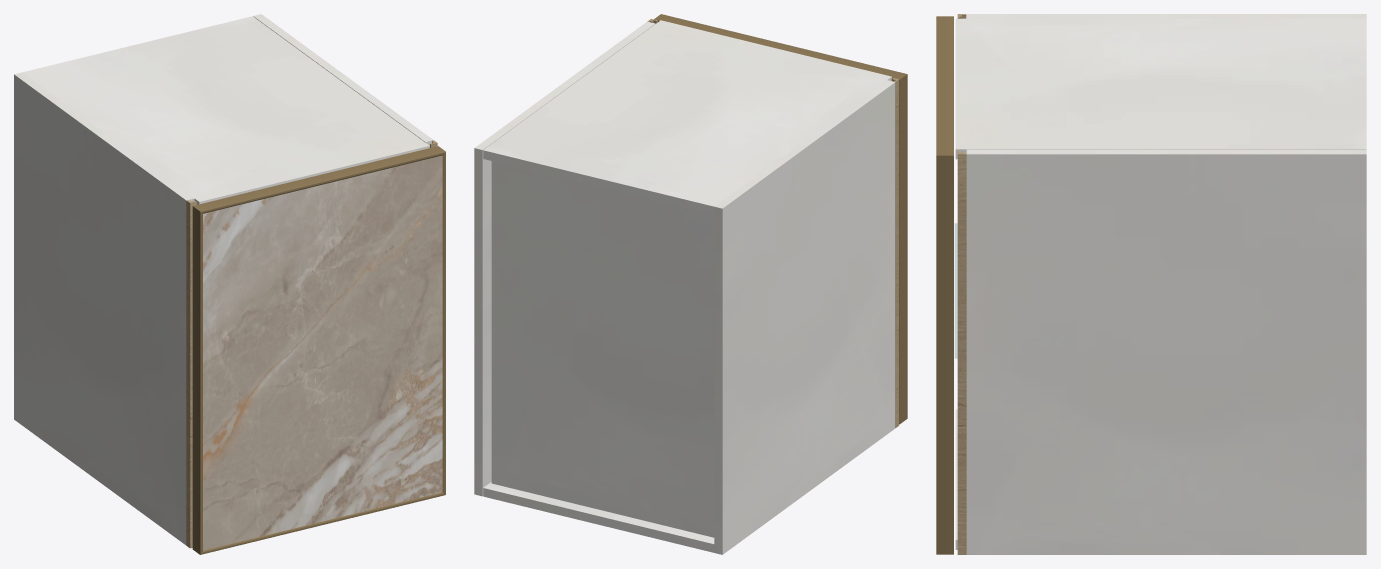
The model's file is LOF-SH-NHX-ST-1SX-RHS-XXX-450-600-560-15.glb.
3 renders of one model, left to right at view 1: azimuth 30°, elevation 25°; view 2: azimuth 150°, elevation 25°; view 3: azimuth 270°, elevation 25°, orthographic. The views are drawn at different scales.
Visible parts, largest first — view 1: Object_node_4, TP_node_0, TP, Extrusion_node_1, Extrusion, Object_node_6, TP_node_1, Extrusion_node, Extrusion_node_0; view 2: TP_node_2, TP_node_0, TP, TP_node_1, TP_node, Extrusion_node_1, Object_node_6, Extrusion; view 3: TP_node_1, TP, Extrusion_node, Object_node_12, Extrusion, TP_node_0.
Boxes of the visible parts, <box> form: Object_node_4: <box>203,155,442,550</box>; TP_node_0: <box>14,72,194,545</box>; TP: <box>23,16,429,204</box>; Extrusion_node_1: <box>192,206,202,554</box>; Extrusion: <box>193,146,445,213</box>; Object_node_6: <box>186,200,196,548</box>; TP_node_1: <box>253,14,433,147</box>; Extrusion_node: <box>442,152,445,494</box>; Extrusion_node_0: <box>200,492,445,554</box>; TP_node_2: <box>491,161,714,537</box>; TP_node_0: <box>714,80,895,554</box>; TP: <box>483,20,891,214</box>; TP_node_1: <box>474,21,655,496</box>; TP_node: <box>483,482,714,552</box>; Extrusion_node_1: <box>899,74,907,423</box>; Object_node_6: <box>891,77,899,427</box>; Extrusion: <box>654,14,907,79</box>; TP_node_1: <box>966,149,1366,554</box>; TP: <box>955,18,1366,159</box>; Extrusion_node: <box>936,155,953,554</box>; Object_node_12: <box>957,150,966,554</box>; Extrusion: <box>936,16,953,155</box>; TP_node_0: <box>966,14,1366,18</box>.
Size of what is drawn, in the model's own units: 0.45 by 0.6 by 0.5842.
7 materials, 3 textured.
